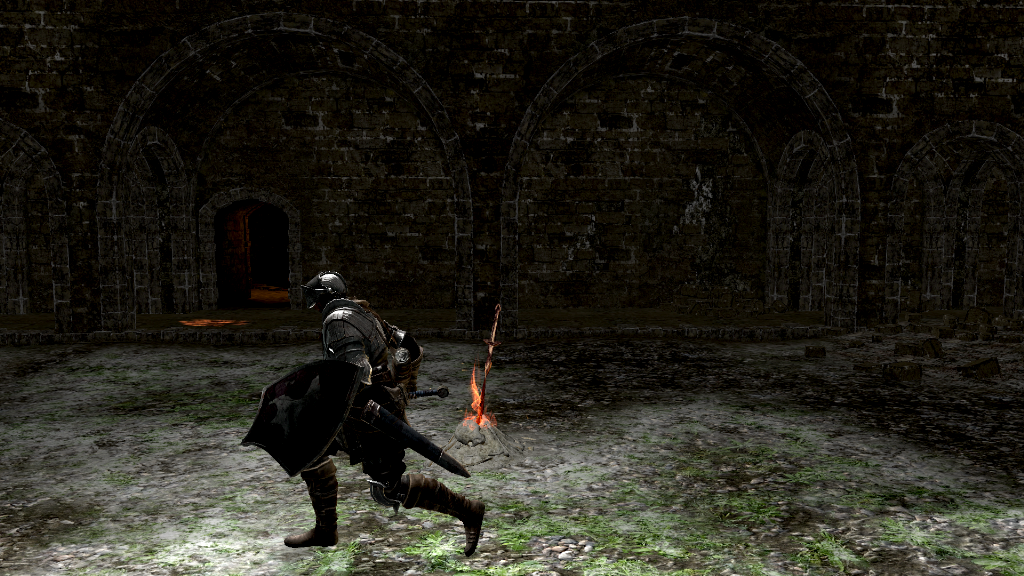bonfire: (454, 302, 508, 441)
player: (237, 270, 487, 557)
